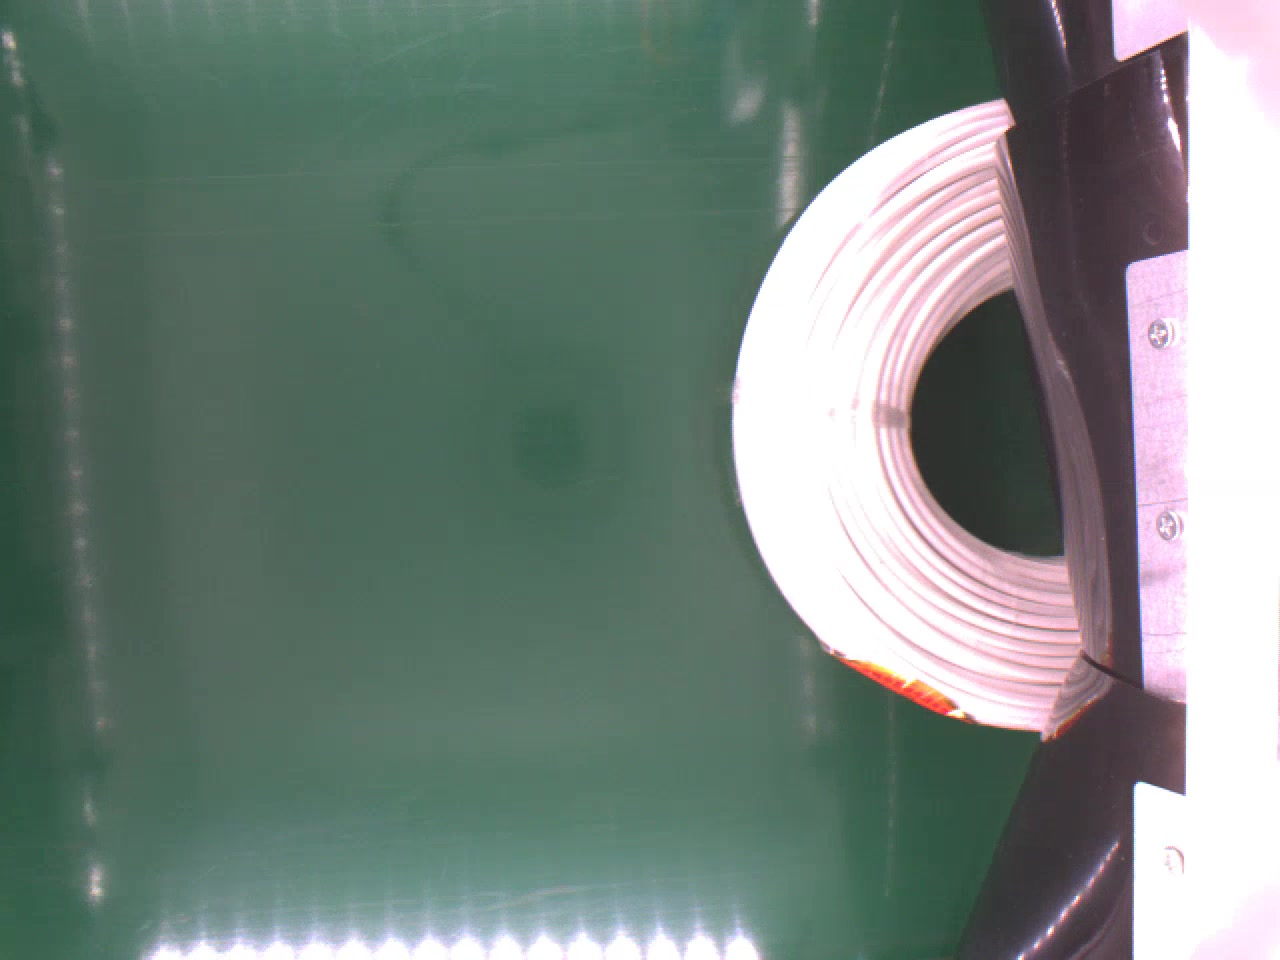white: (732, 95, 1085, 735)
